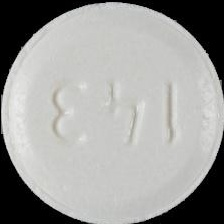54868-5028: (0, 0, 224, 224)
